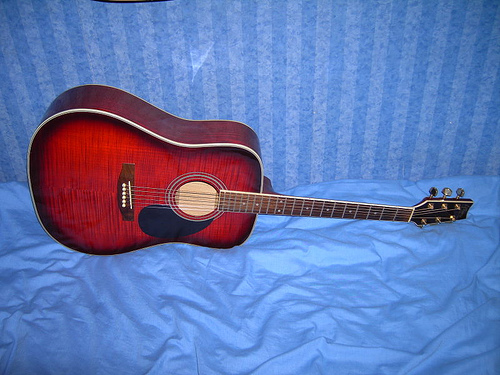guitar: (21, 83, 477, 260)
